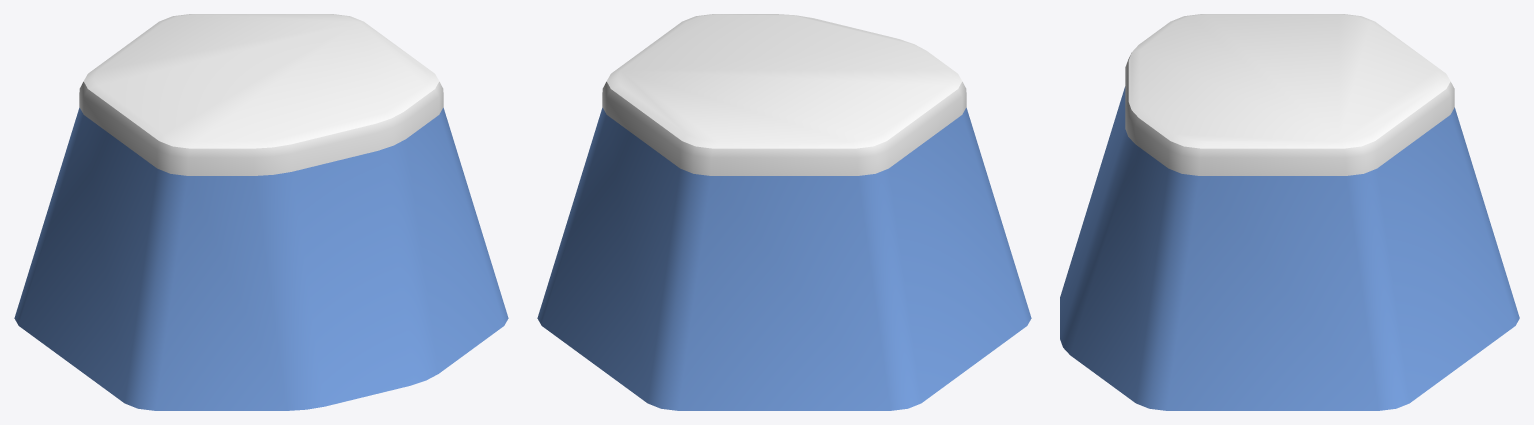
The model's file is HillRock004.fbx.
The picture shows the model from 3 angles, left to right: view 1: azimuth 30°, elevation 25°; view 2: azimuth 150°, elevation 25°; view 3: azimuth 270°, elevation 25°; orthographic projection.
Parts seen in each view (by area): view 1: HillRock004; view 2: HillRock004; view 3: HillRock004.
Boxes of the visible parts, box(x1,y1,x2,y2) form: HillRock004: box(14, 14, 508, 410); HillRock004: box(537, 14, 1031, 410); HillRock004: box(1060, 14, 1519, 410).
Bounding box in the file's own units: 747 × 451 × 783.
